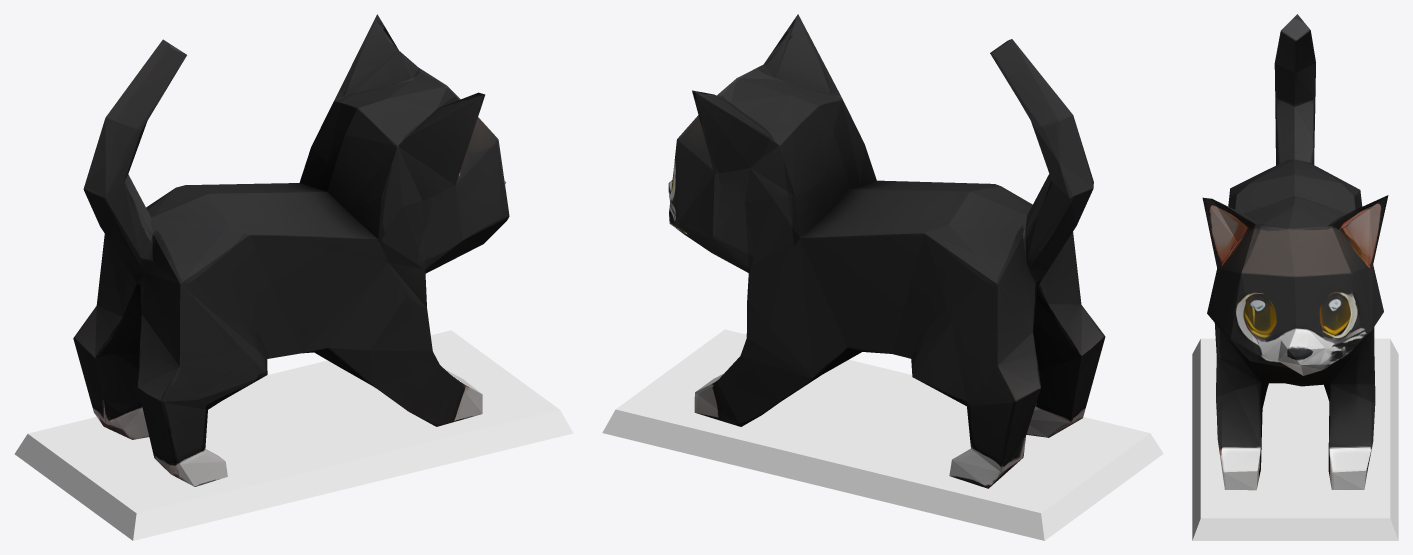
The picture shows the model from 3 angles, left to right: view 1: azimuth 30°, elevation 25°; view 2: azimuth 150°, elevation 25°; view 3: azimuth 270°, elevation 25°; orthographic projection. The views are drawn at different scales.
Parts seen in each view (by area): view 1: Figure, Plinth; view 2: Figure, Plinth; view 3: Figure, Plinth.
Boxes of the visible parts, bbox=[...] form: Figure: bbox=[73, 14, 509, 486]; Plinth: bbox=[14, 330, 573, 540]; Figure: bbox=[668, 14, 1105, 488]; Plinth: bbox=[602, 329, 1163, 540]; Figure: bbox=[1202, 14, 1388, 490]; Plinth: bbox=[1192, 338, 1398, 540].
Bounding box in the file's own units: 0.4973 × 0.4696 × 0.2319.
Materials: 2 (1 with a texture image).
